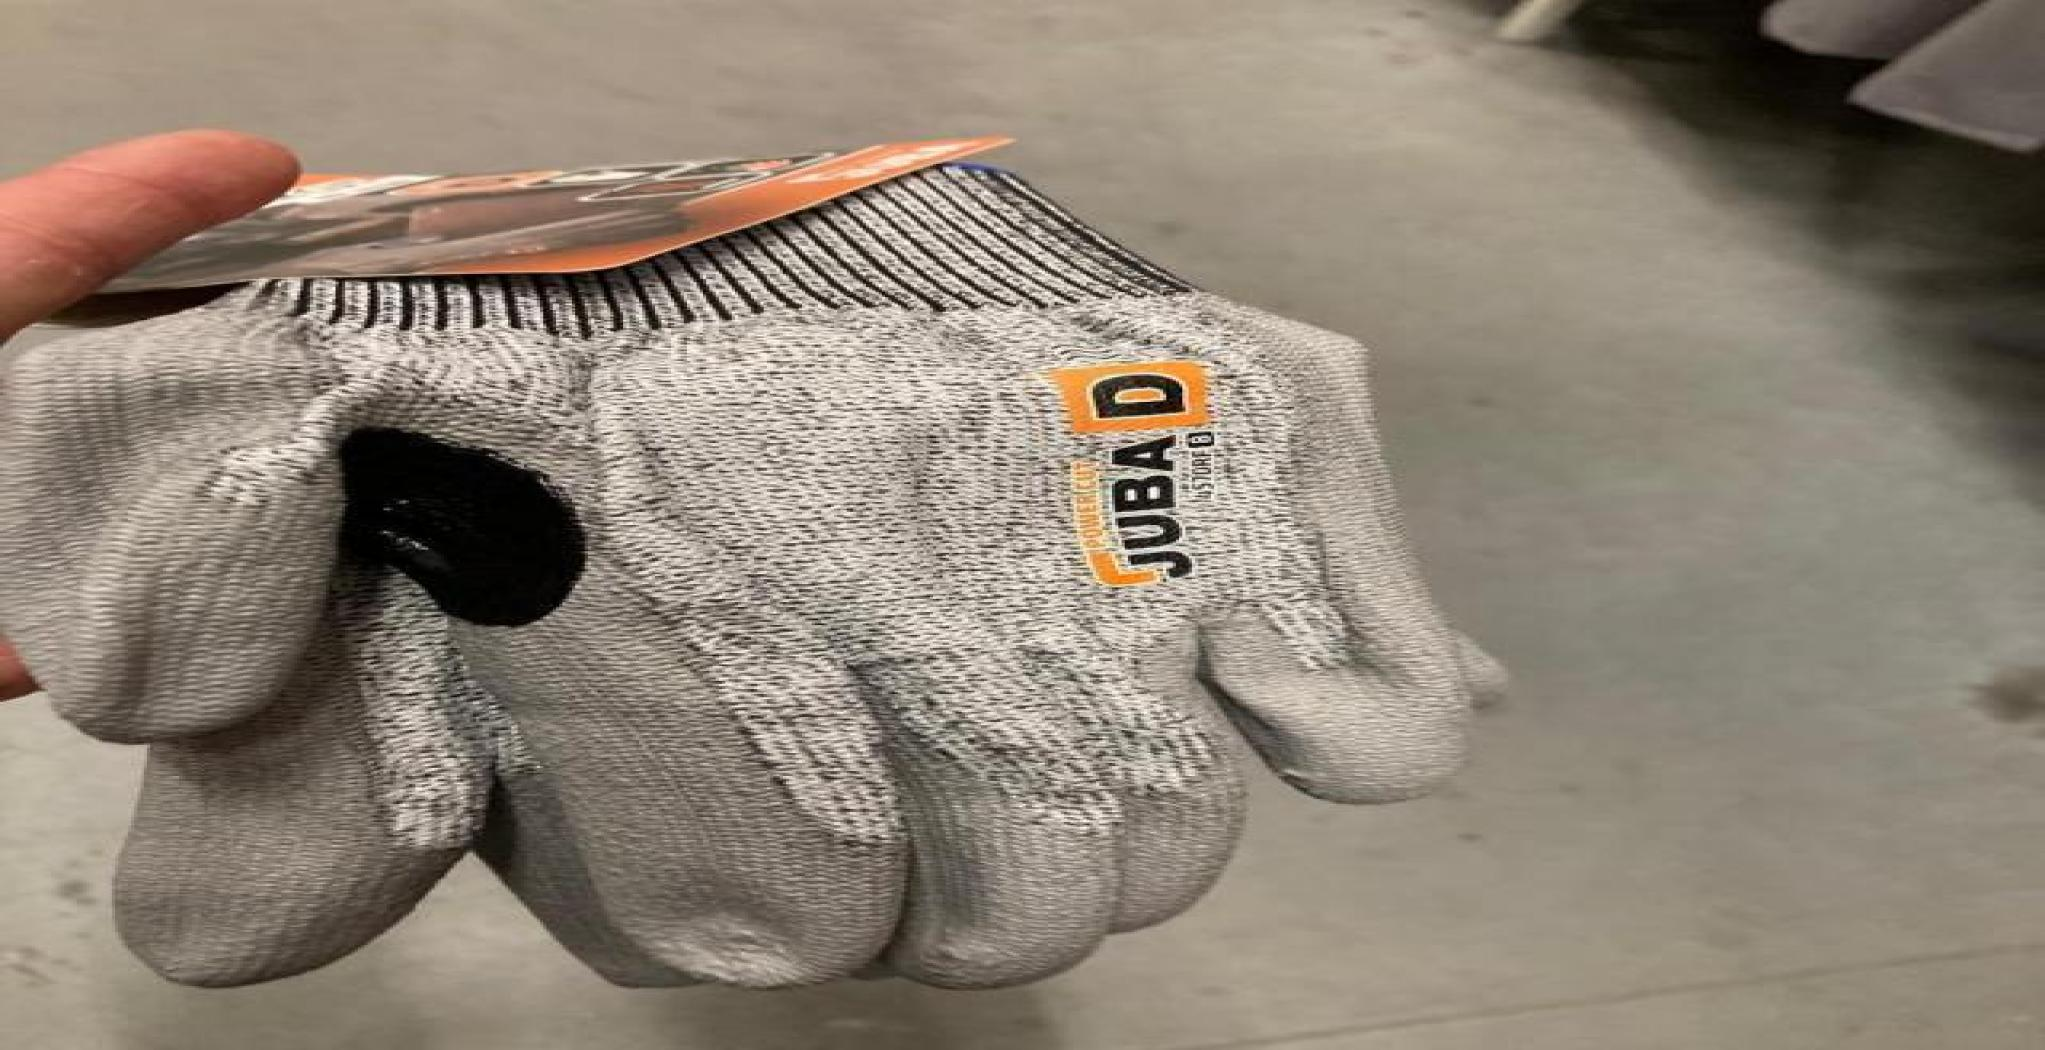gloved: (0, 139, 1511, 994)
